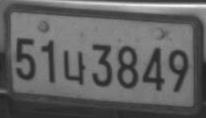1: (39, 40, 61, 83)
3: (91, 43, 112, 87)
4: (142, 47, 165, 91)
5: (14, 36, 36, 81)
8: (117, 45, 138, 89)
9: (168, 49, 188, 92)
나: (62, 50, 86, 85)
